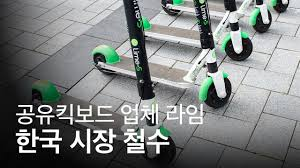kick_wheel: (200, 74, 231, 107), (222, 32, 253, 61), (92, 44, 115, 74), (250, 8, 273, 33)
